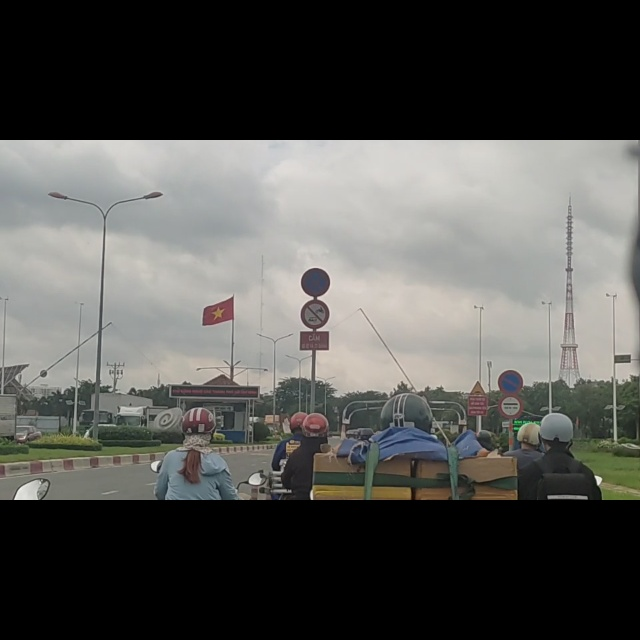bien_nguy_hiem: (300, 226, 331, 279), (301, 284, 330, 333), (498, 453, 525, 494), (499, 409, 523, 450), (471, 428, 487, 454)
